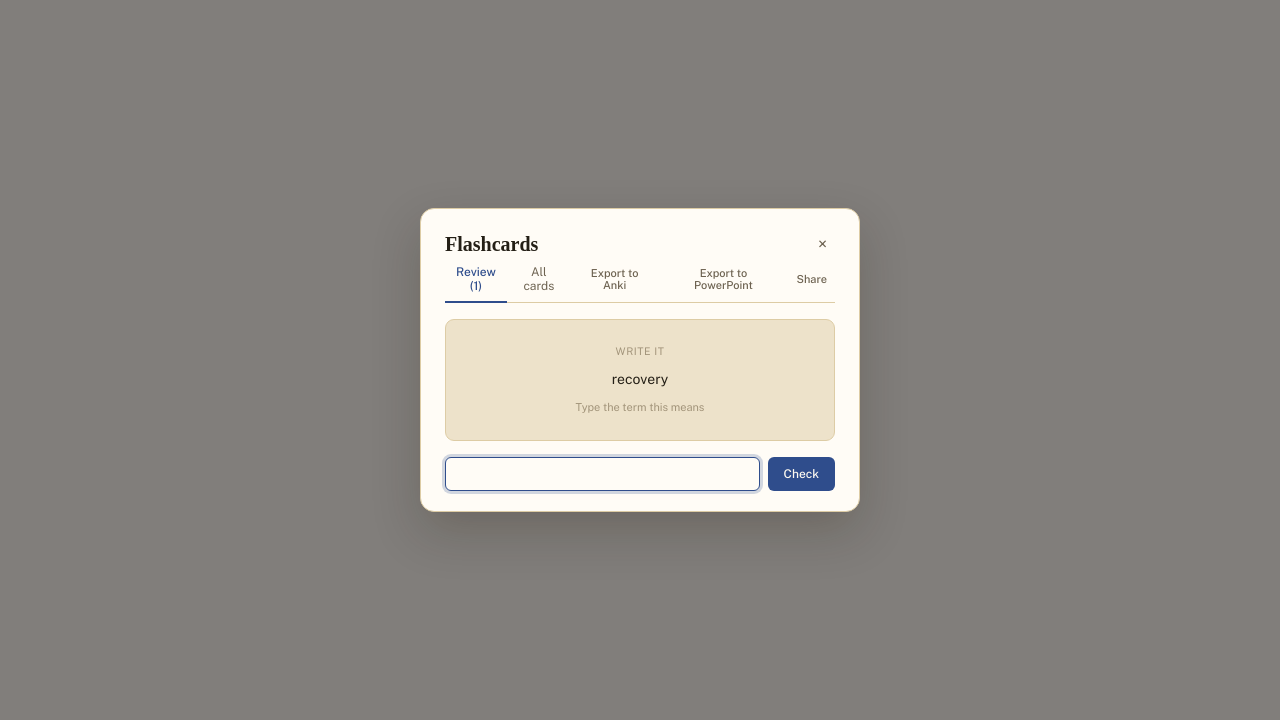
Test: FlashcardsPanel › production-direction review › reports an accent-only miss as almost-right rather than wrong
The image size is (1280, 720).
expect the text "recovery" is shown: met, box [612,368,668,391]
Type "recuperacion" into the field named "your answer" at (602, 474), box [445,457,760,491]
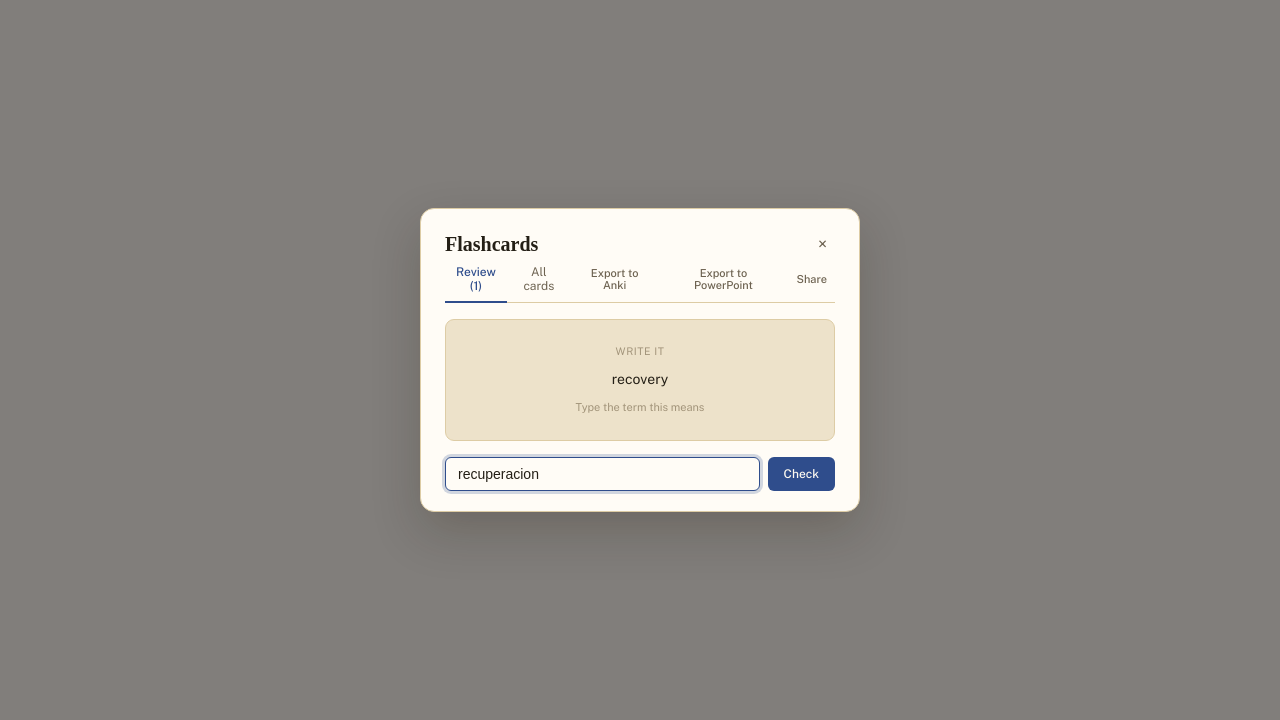
Click the button "Check" at (801, 474), box [768,457,835,491]
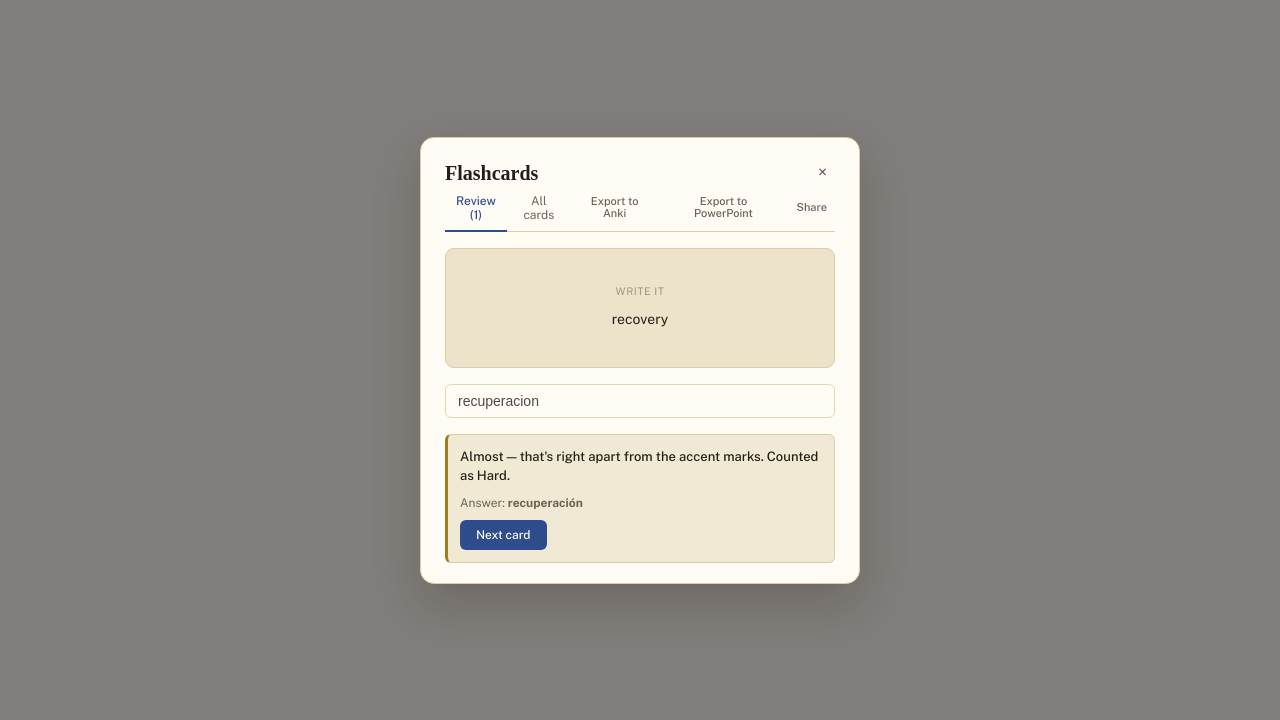
expect the text "recuperación" is shown: met, box [508,496,583,510]
